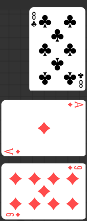8C: (30, 11, 37, 29)
9D: (4, 212, 21, 218)
AD: (66, 101, 84, 110)
